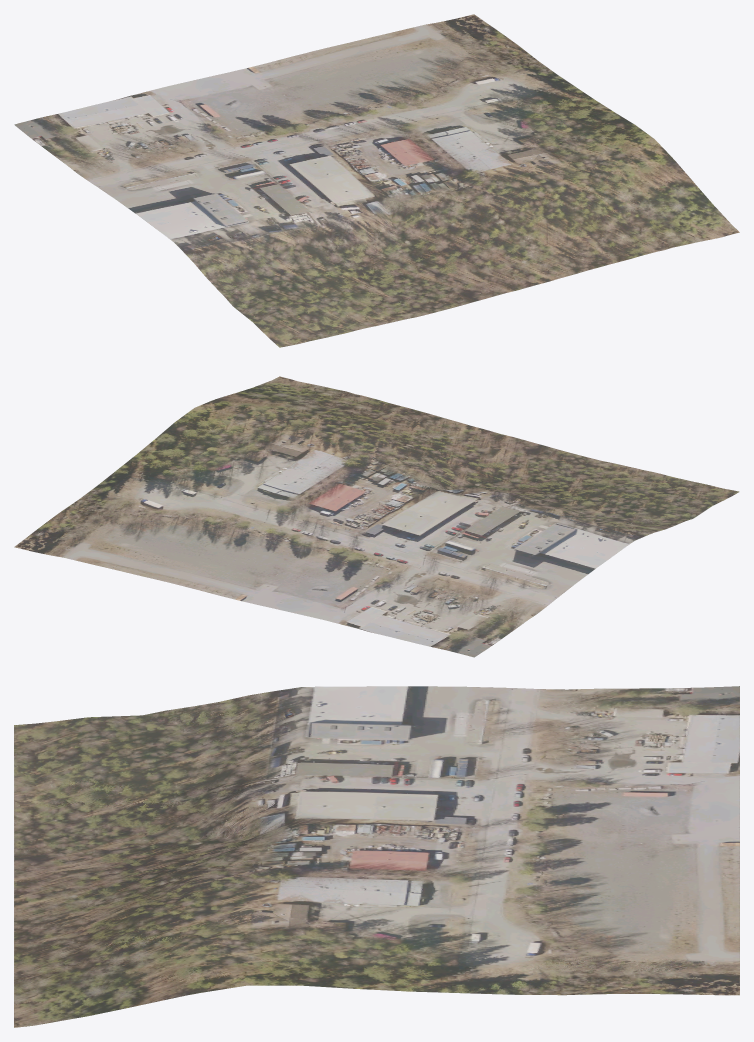
The model's file is CM_Terrain_24493121_6816312.fbx.
3 views of the same model, one above another, from view 1: azimuth 30°, elevation 25°; view 2: azimuth 150°, elevation 25°; view 3: azimuth 270°, elevation 25° (orthographic). The views are drawn at different scales.
Visible parts, largest first — view 1: CM_Terrain_24493121_6816312_LOD0; view 2: CM_Terrain_24493121_6816312_LOD0; view 3: CM_Terrain_24493121_6816312_LOD0.
Boxes of the visible parts, box(x1,y1,x2,y2) form: CM_Terrain_24493121_6816312_LOD0: box(14, 14, 739, 347); CM_Terrain_24493121_6816312_LOD0: box(14, 376, 739, 657); CM_Terrain_24493121_6816312_LOD0: box(14, 686, 739, 1027).
Size of what is drawn, in the model's own units: 205 by 15.66 by 205.
